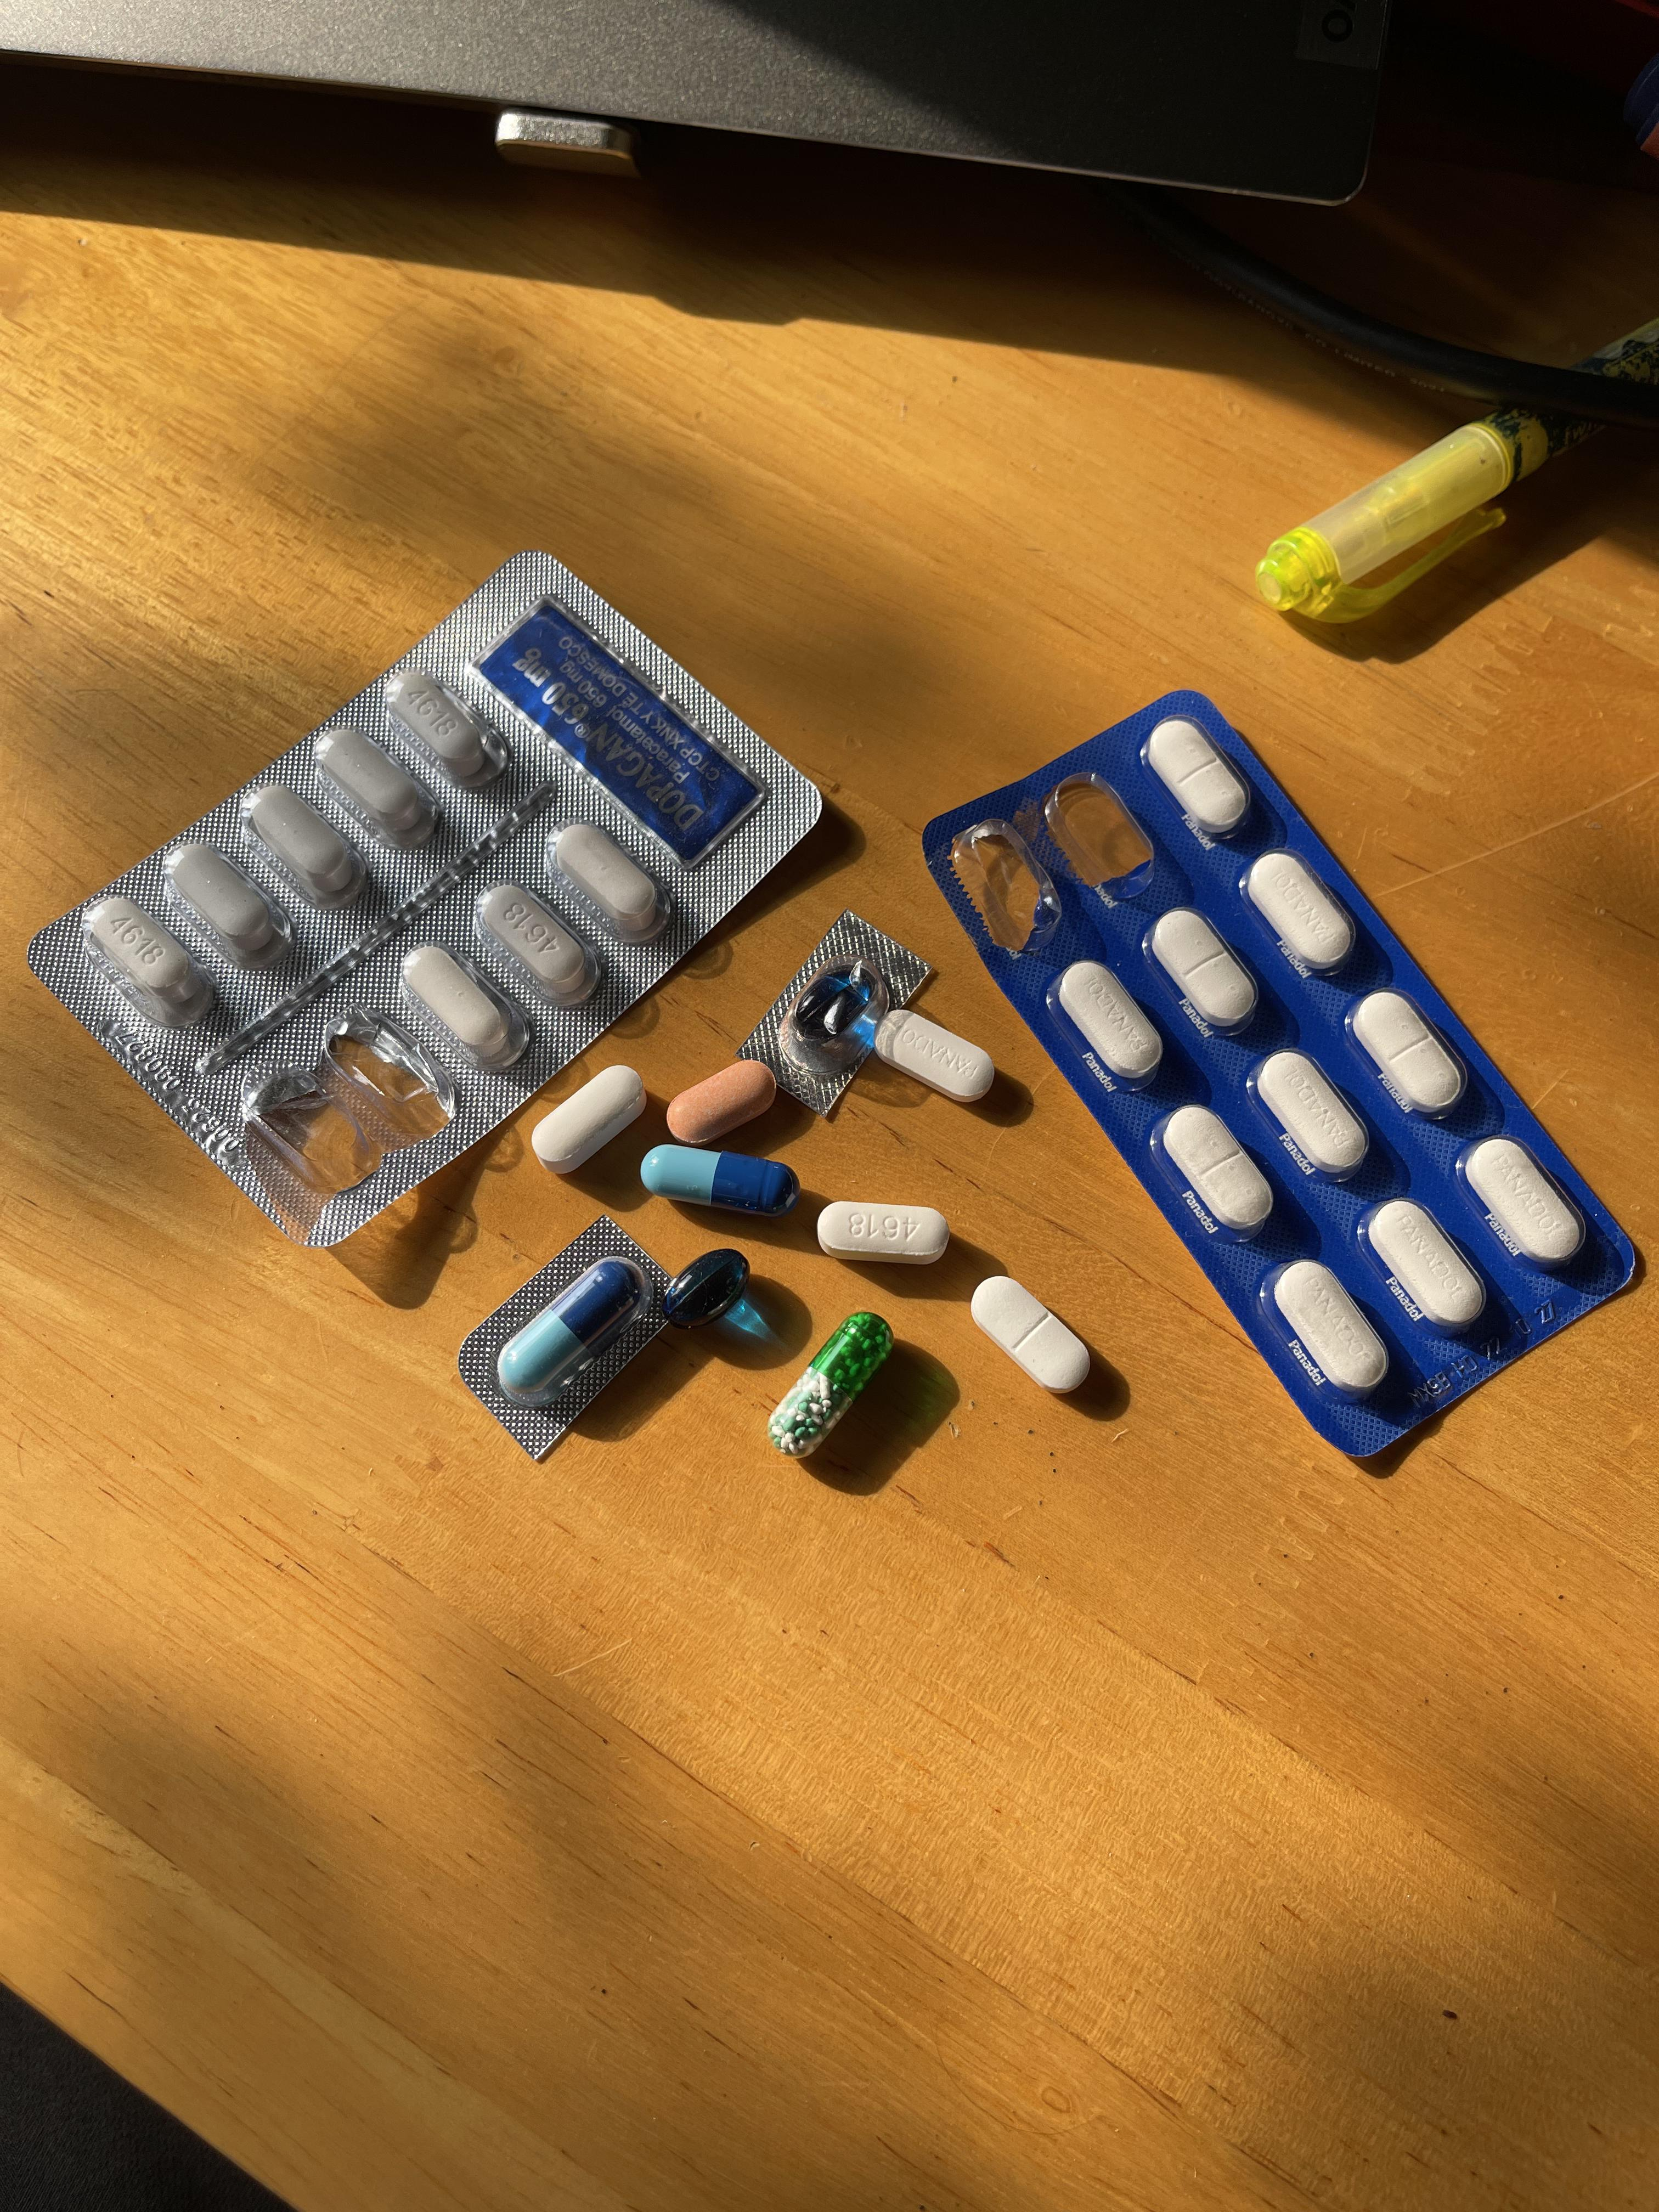Lincomyxin_500mg: (666, 1251, 748, 1322), (798, 975, 871, 1043)
Loratadine_10mg: (660, 1061, 775, 1139)
Paracetamol_350mg: (1464, 1136, 1586, 1270), (1363, 1198, 1483, 1332), (1272, 1259, 1391, 1395), (1349, 989, 1467, 1120), (1253, 1050, 1370, 1183), (1161, 1104, 1274, 1235), (969, 1275, 1089, 1395), (1148, 907, 1260, 1035), (1244, 850, 1356, 975), (1056, 960, 1162, 1085), (1145, 719, 1249, 838), (878, 1012, 997, 1104)
Paracetamol_500mg: (80, 894, 211, 1031), (242, 786, 371, 911), (399, 941, 523, 1071), (387, 667, 512, 794), (476, 883, 599, 1012), (547, 822, 669, 948), (166, 843, 288, 965), (319, 726, 436, 848), (528, 1066, 647, 1169), (817, 1198, 948, 1261)
Paracetamol_650mg: (774, 1313, 890, 1451)
pill: (495, 1259, 634, 1399), (641, 1141, 791, 1209)
